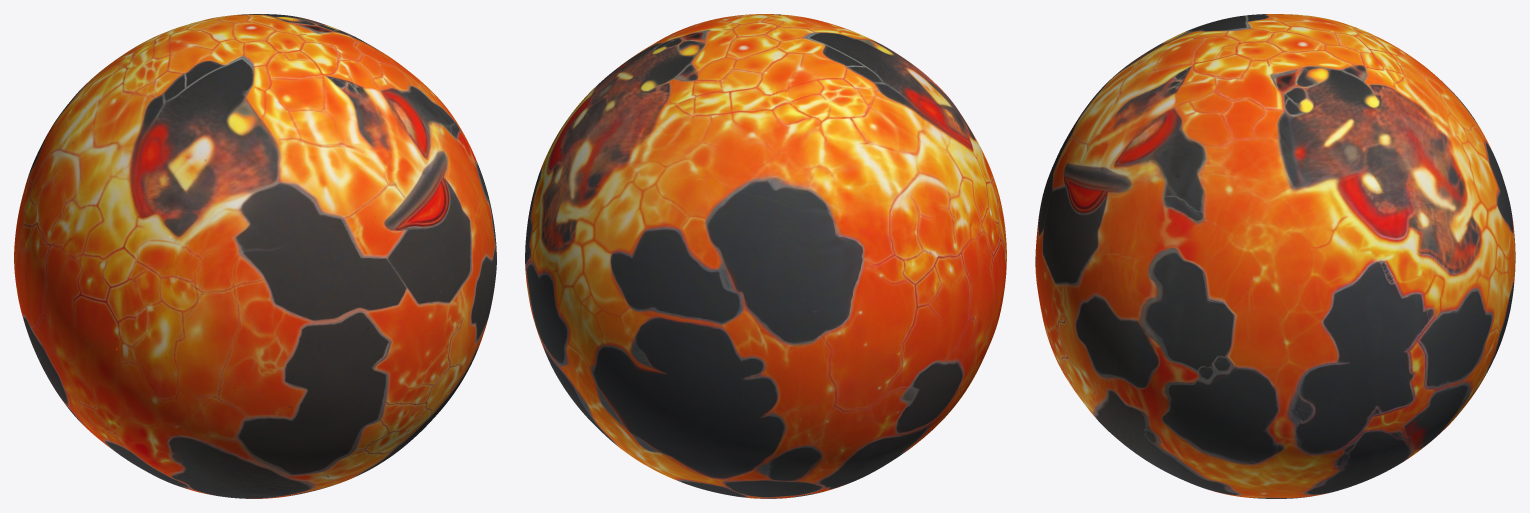
The model's file is Boss_Orb_1_Lava_Orb_Texture_1782688448157.glb.
The picture shows the model from 3 angles, left to right: view 1: azimuth 30°, elevation 25°; view 2: azimuth 150°, elevation 25°; view 3: azimuth 270°, elevation 25°; orthographic projection.
Bounding box in the file's own units: 2 × 2 × 2.
1 material, 1 textured.
